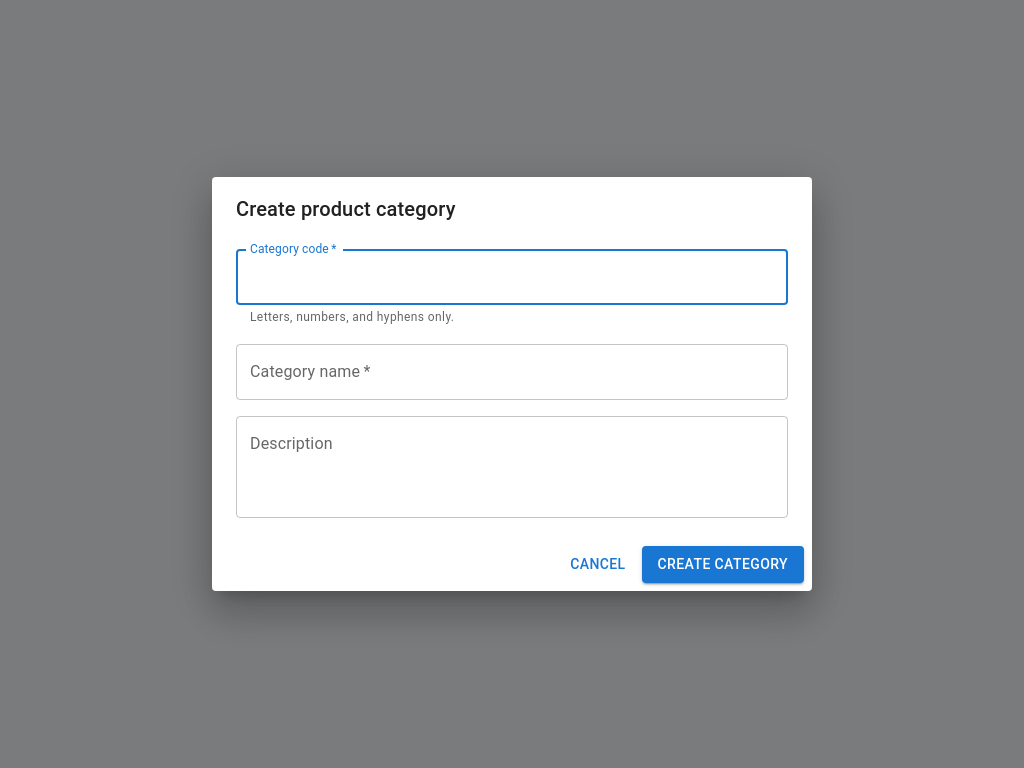
Scenario: CreateProductCategoryDialog › shows validation errors without submitting
Click the button "Create category" at [723, 564], box [642,546,804,583]
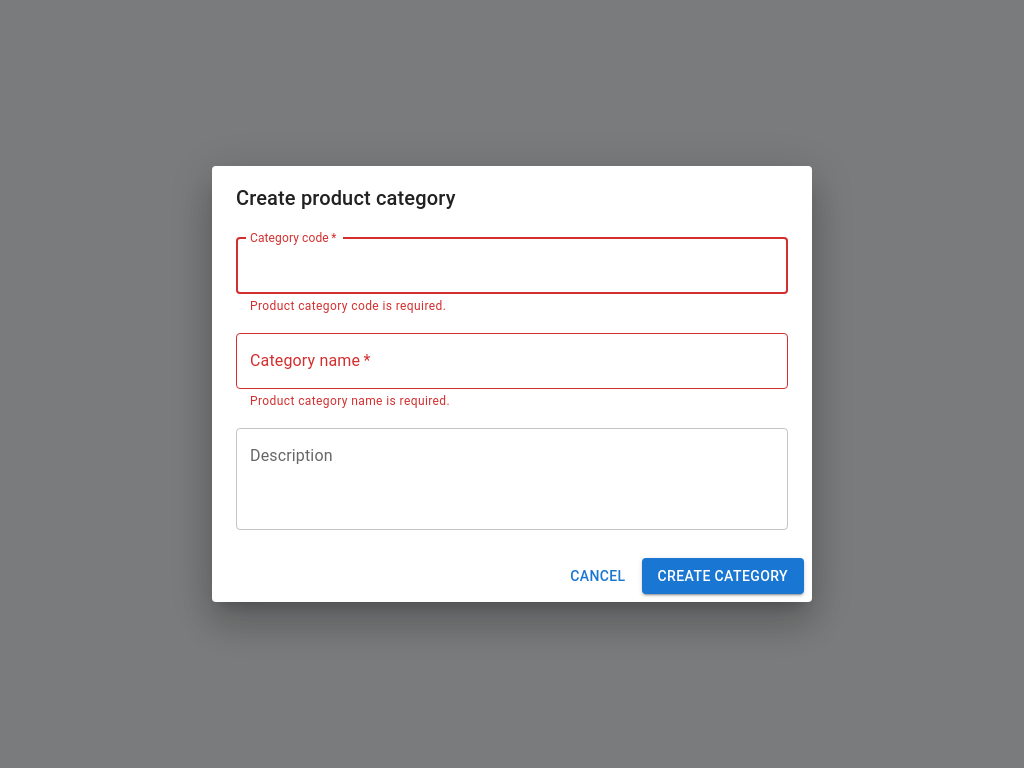
expect the text "Product category code is required." is shown: met, box [250,299,446,313]
expect the text "Product category name is required." is shown: met, box [250,394,450,408]
